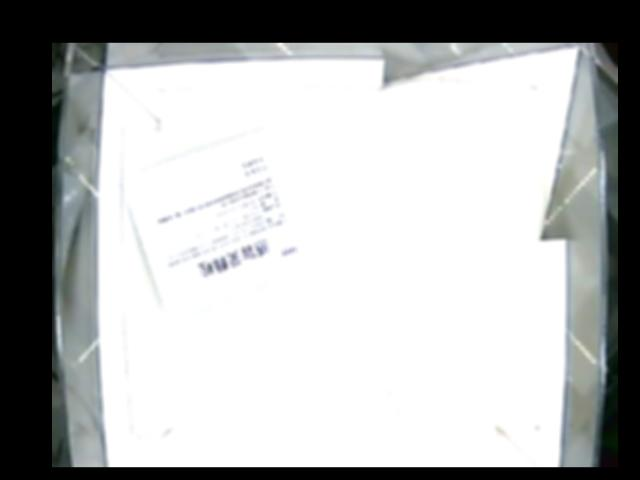Medicine: (124, 123, 327, 320)
